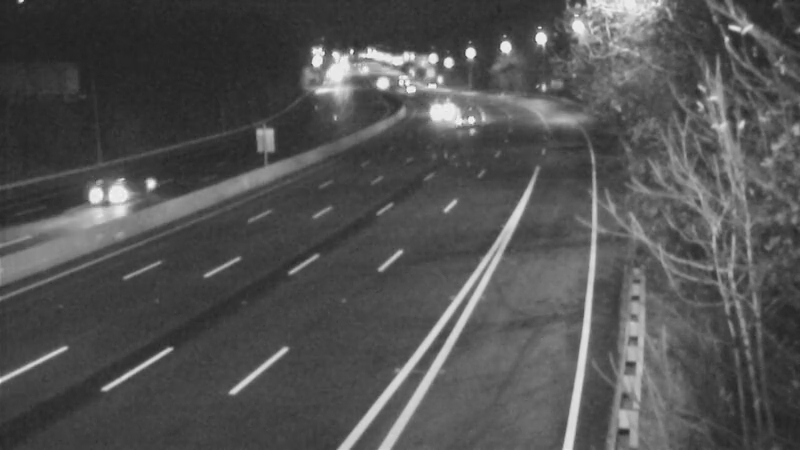vehicle: (75, 155, 155, 235), (401, 60, 451, 110), (379, 55, 429, 105), (353, 54, 403, 104), (390, 66, 440, 116), (411, 86, 461, 136), (440, 98, 490, 148)
